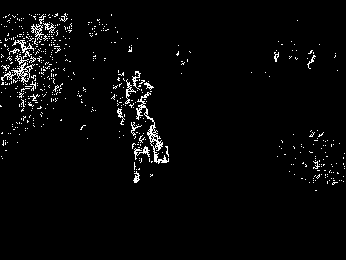person: (128, 103, 170, 188), (129, 71, 152, 122), (114, 67, 130, 126)
